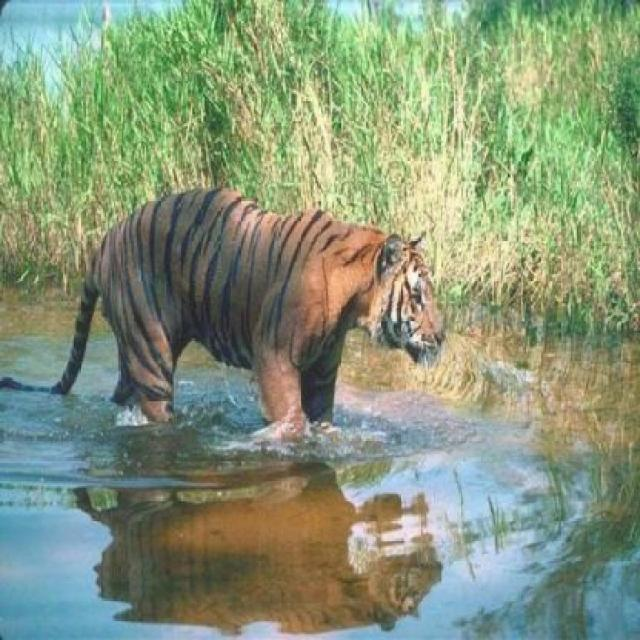tiger: (49, 183, 446, 444)
